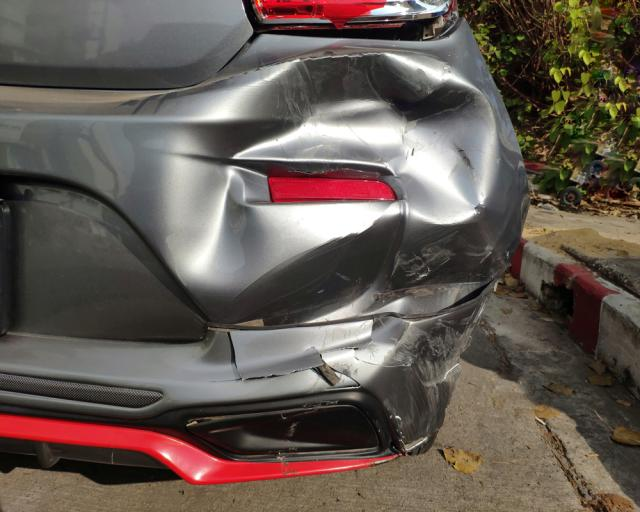crack: (208, 322, 389, 391), (438, 277, 498, 310)
dent: (161, 48, 513, 317)
lamp broken: (250, 0, 459, 40)
scratch: (389, 323, 471, 428)
